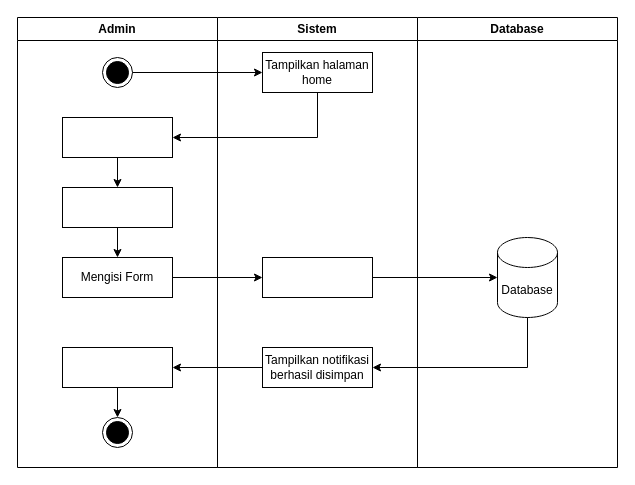
The diagram is 635 pixels wide and 485 high, and some of its shapes have lost their labels. Here are the shapes that lost their labels. From the top down, the centre of each, then its label:
At (x=117, y=137): "Mengakses halaman home".
At (x=117, y=207): "Melihat profil".
At (x=317, y=277): "Menyimpan".
At (x=117, y=367): "Melihat notifikasi berhasil disimpan".
